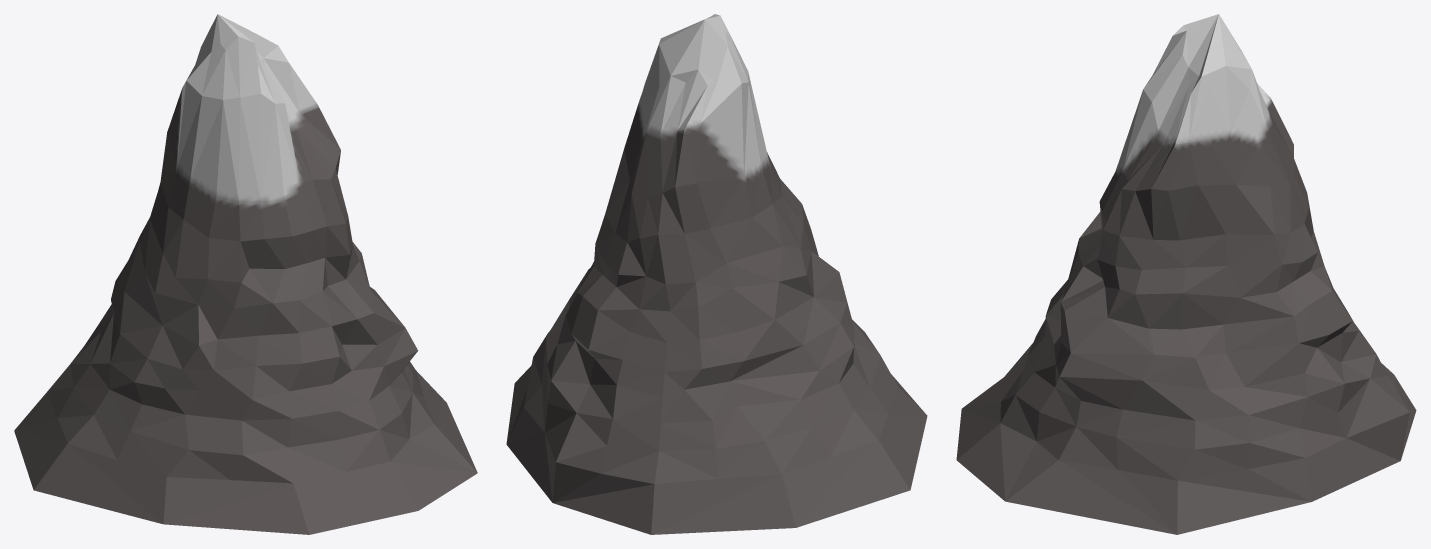
The model's file is Mountain Bg 2.fbx.
3 renders of one model, left to right at view 1: azimuth 30°, elevation 25°; view 2: azimuth 150°, elevation 25°; view 3: azimuth 270°, elevation 25°, orthographic. The views are drawn at different scales.
Parts seen in each view (by area): view 1: Mountain_Bg_2; view 2: Mountain_Bg_2; view 3: Mountain_Bg_2.
Part boxes in pixels (left/top/right/bottom): Mountain_Bg_2: left=14, top=14, right=477, bottom=534; Mountain_Bg_2: left=506, top=14, right=927, bottom=534; Mountain_Bg_2: left=956, top=14, right=1416, bottom=534.
Bounding box in the file's own units: 57.27 × 57.83 × 57.36.
1 material, 1 textured.
